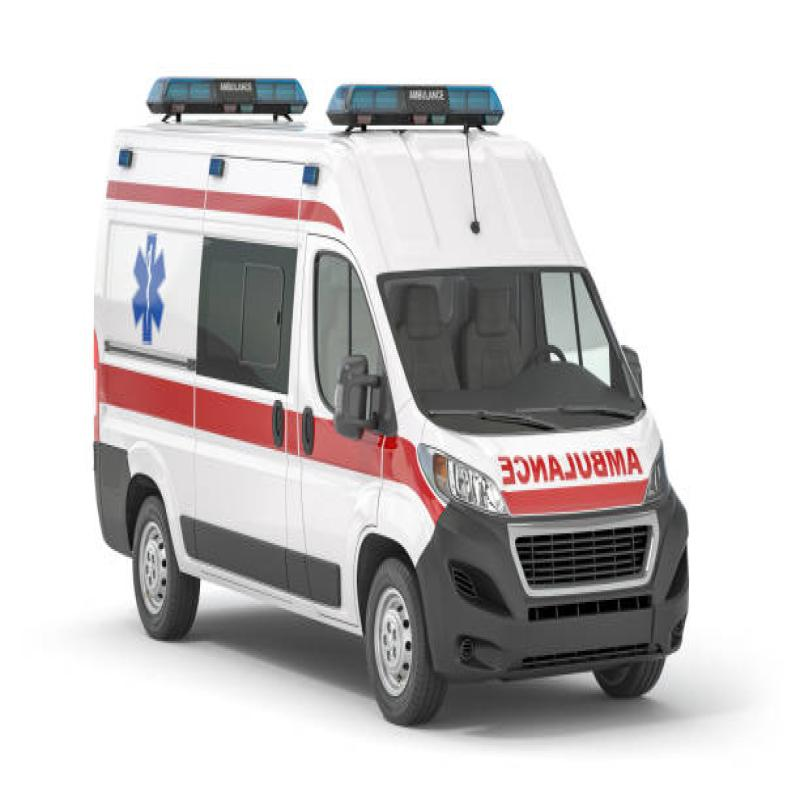ambulance: (54, 40, 703, 740)
